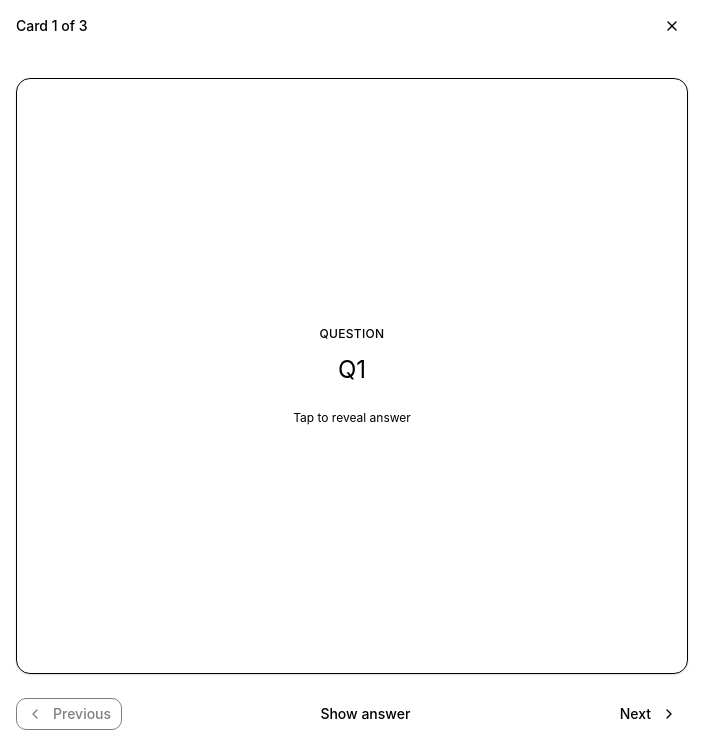
Test: StudyMode › advances to the next card and resets to the front
Expected: the text "Q1" is shown, 338,355 -> 366,384
What coordinates should you click on to do the following:
click the button "Next"
I would click on:
 (648, 714)
Its box is 609,698 -> 688,730.
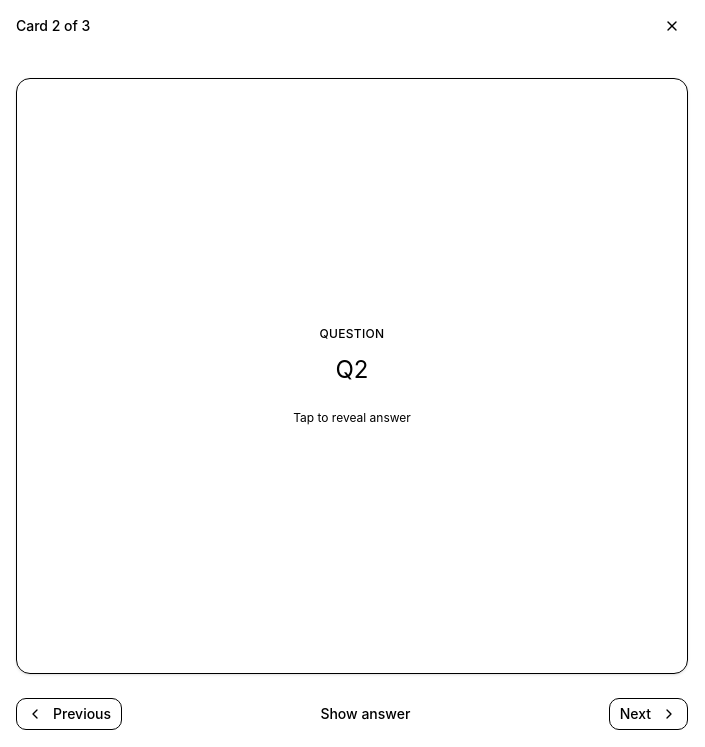
Expected: the text "Question" is shown, 320,326 -> 384,342
Expected: the text "Q2" is shown, 336,355 -> 368,384
Expected: the text "Card 2 of 3" is shown, 16,16 -> 90,36
